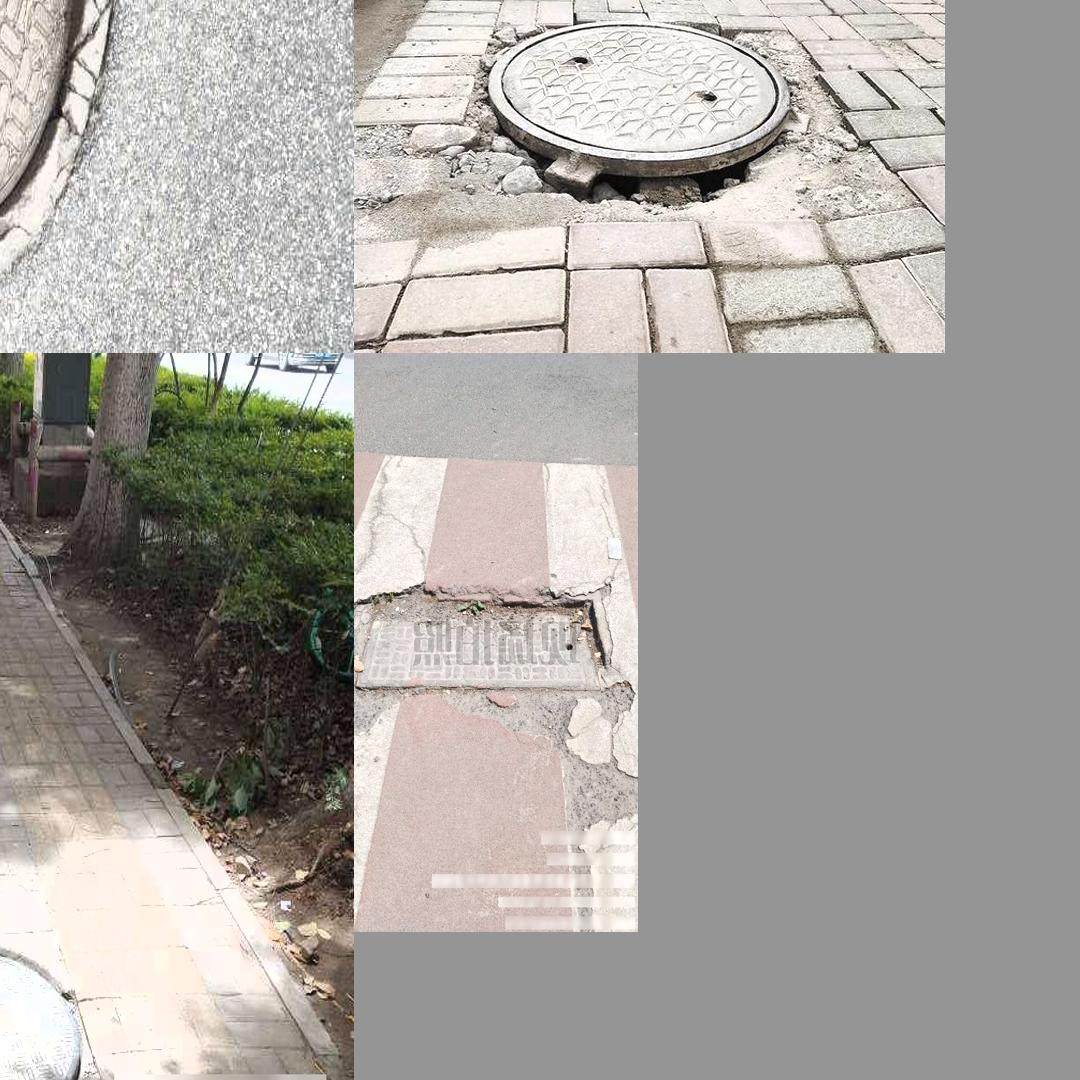circle: (409, 21, 908, 221), (0, 0, 179, 322), (354, 594, 614, 695), (0, 941, 88, 1080)
